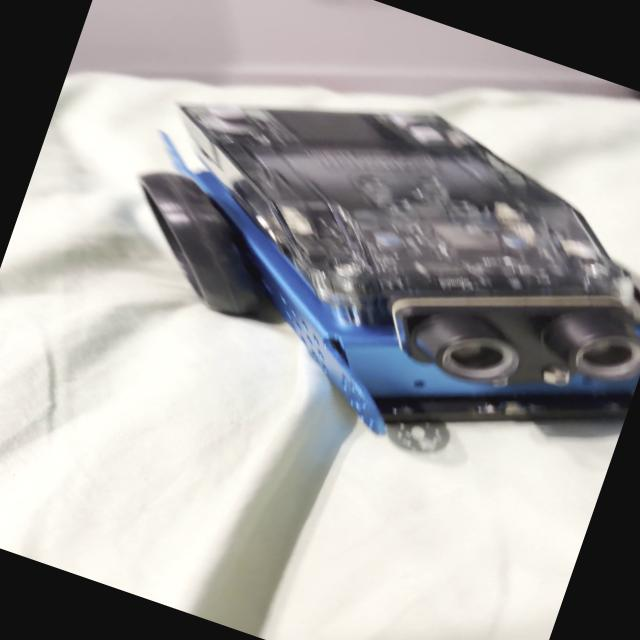mbot-detection: (71, 20, 640, 519)
